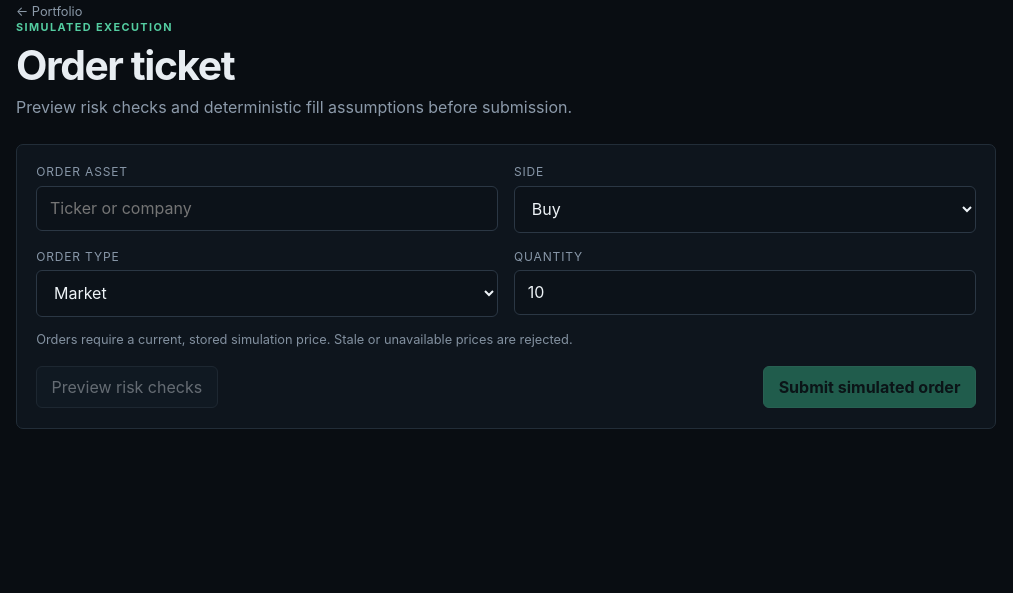
Sprint 2 research workflows › previews risk checks before simulated submission
This screenshot has width=1013, height=593.
In the field labelled "Order asset": (267, 208) [36,186,498,230], type "AAPL"
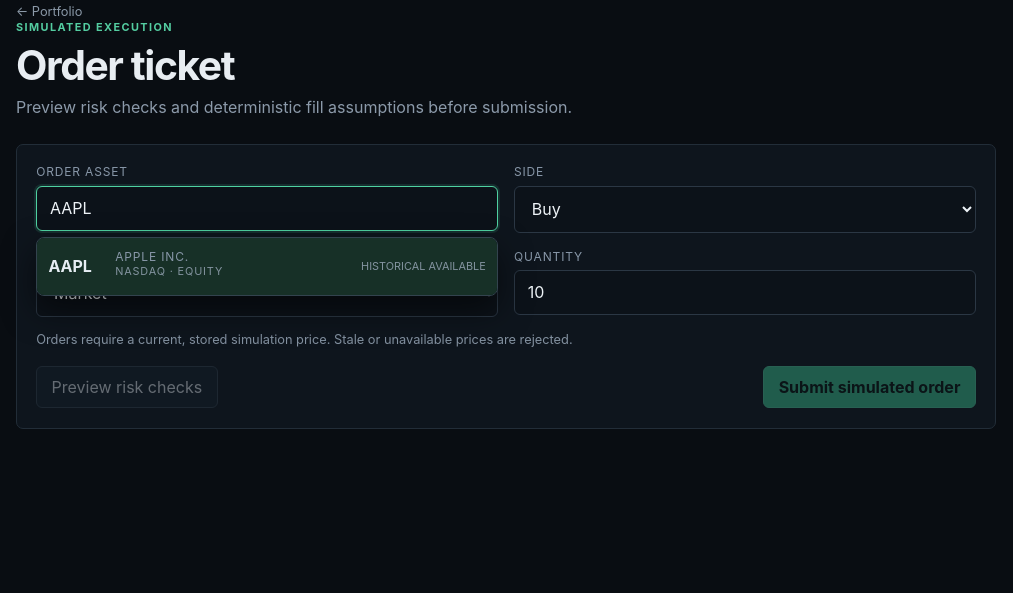
Click the option "AAPL Apple Inc. NASDAQ · equity HISTORICAL AVAILABLE": (70, 266) [37,238,497,295]
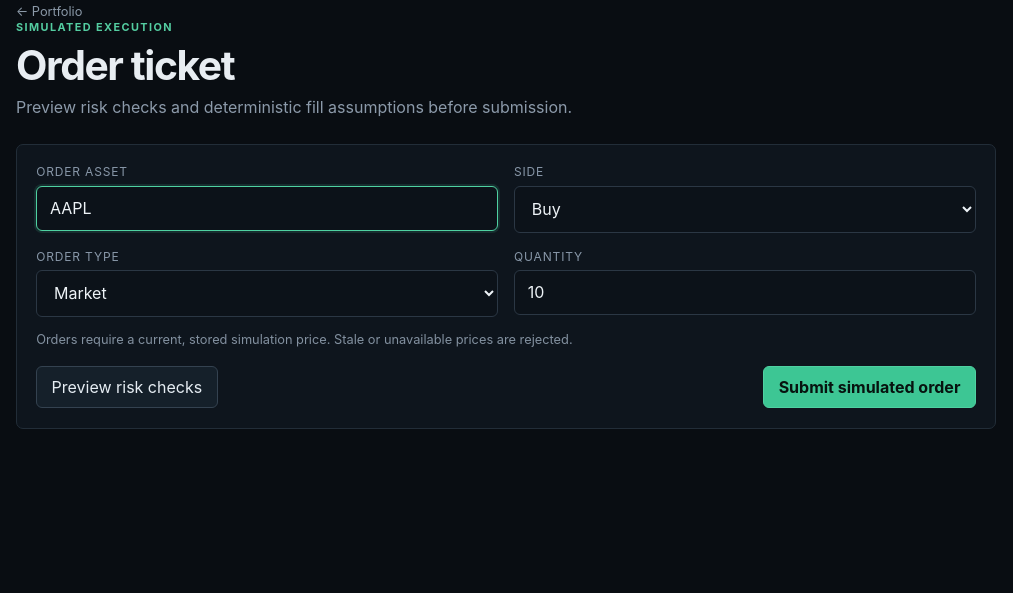
Click the button "Preview risk checks": (127, 387) [36,366,218,408]
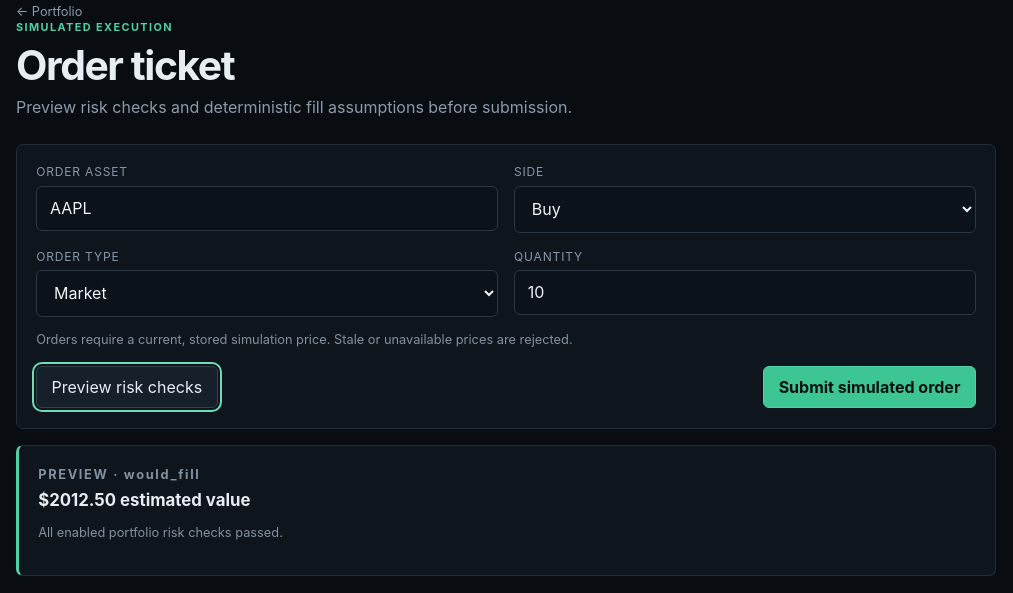
expect the text "All enabled portfolio risk checks passed." is shown: met, box [38,525,283,540]
